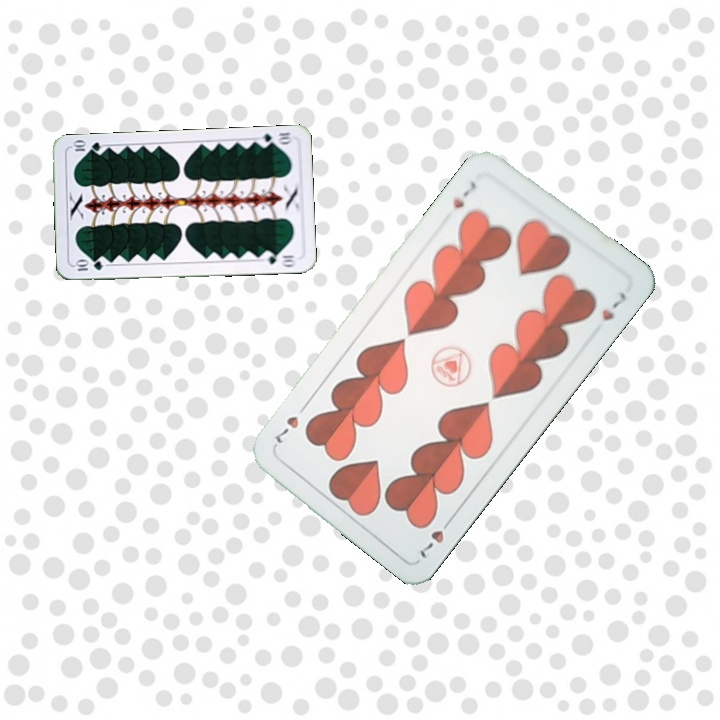G10: (254, 128, 295, 149), (71, 257, 105, 273)
H7: (415, 512, 457, 562), (448, 177, 479, 212)
